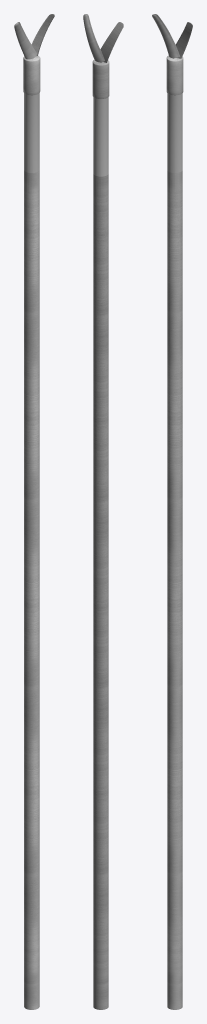
3 renders of one model, left to right at view 1: azimuth 30°, elevation 25°; view 2: azimuth 150°, elevation 25°; view 3: azimuth 330°, elevation 25°, orthographic.
Visible parts, largest first — view 1: Cylinder08, jiandao1, jiandao2; view 2: Cylinder08, jiandao2, jiandao1; view 3: Cylinder08, jiandao1, jiandao2.
Boxes of the visible parts, left/top/right/bottom form: Cylinder08: left=23, top=55, right=40, bottom=1009; jiandao1: left=14, top=22, right=36, bottom=59; jiandao2: left=31, top=14, right=54, bottom=56; Cylinder08: left=92, top=60, right=109, bottom=1009; jiandao2: left=83, top=14, right=104, bottom=62; jiandao1: left=100, top=22, right=123, bottom=62; Cylinder08: left=166, top=55, right=183, bottom=1009; jiandao1: left=152, top=14, right=179, bottom=58; jiandao2: left=175, top=22, right=192, bottom=58.
Size of the model in its own units: 6.47 by 151 by 2.32.
